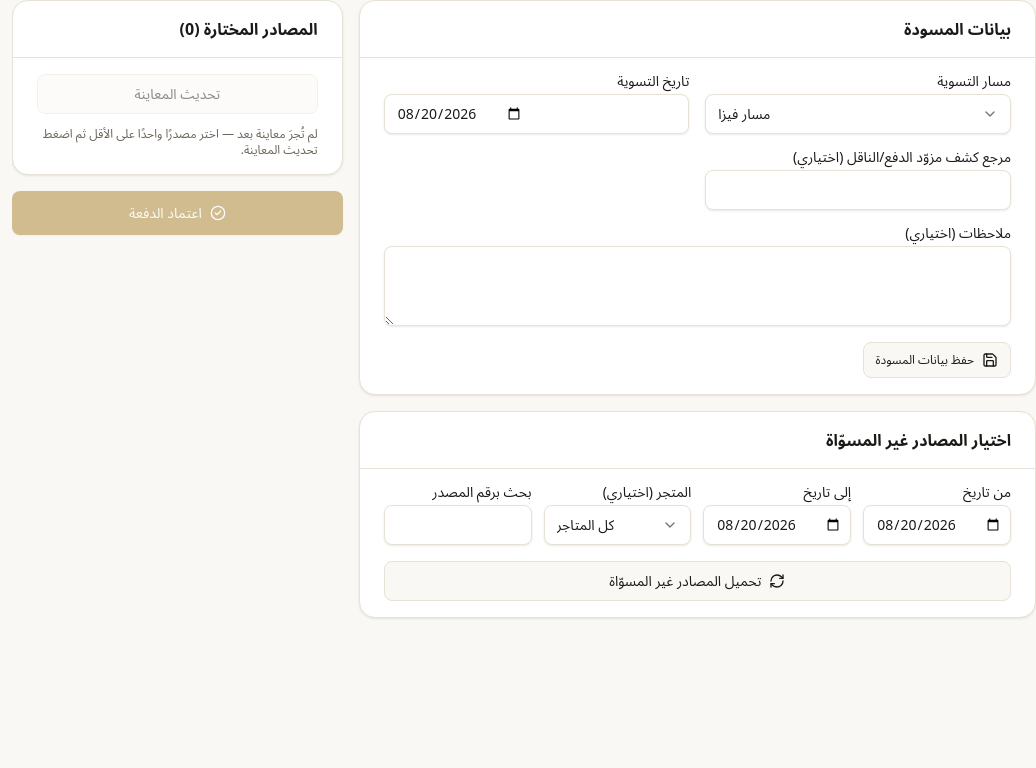
Test: SettlementDraftWorkspace — Preview state machine (Patch 7.1 §16/§33) › success — a resolved preview shows the 'محدّثة' badge, renders the RPC's figures verbatim, and enables Finalize
What coordinates should you click on to do the following:
click the button "تحميل المصادر غير المسوّاة"
I would click on:
 (697, 581)
Its box is [384,561,1011,601].
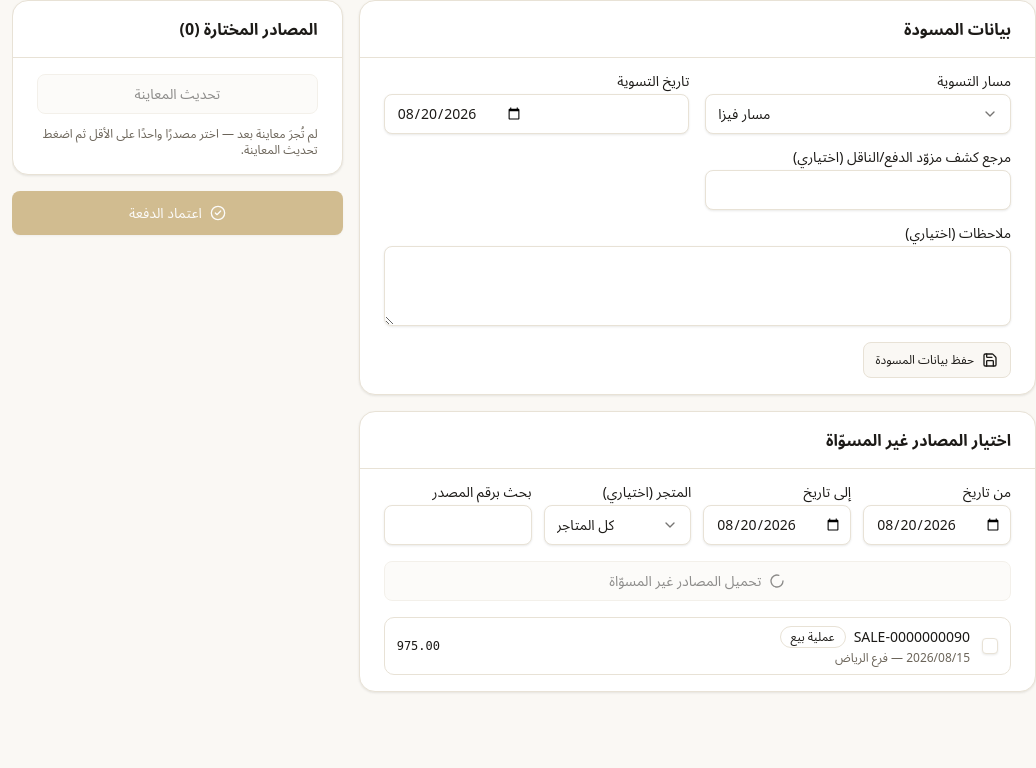
expect the text "SALE-0000000090" is shown: met, box [854,627,970,646]
What coordinates should you click on to do the following:
click the checkbox
I would click on:
 (990, 646)
Its box is [982,638,998,654].
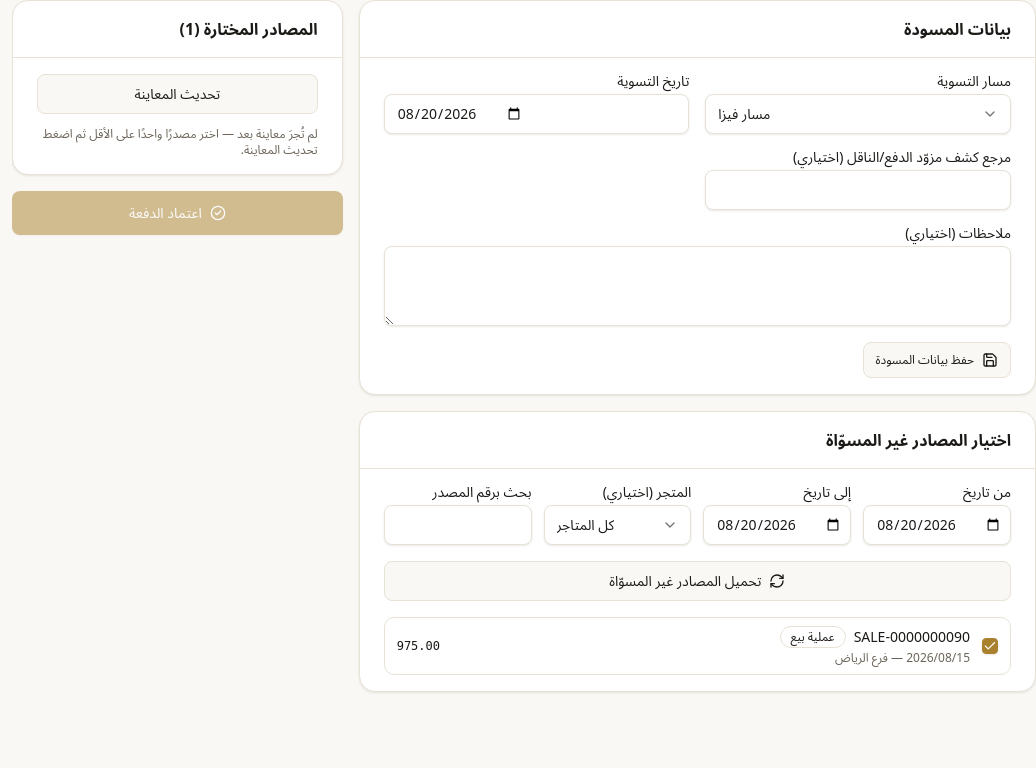
What coordinates should you click on to do the following:
click the button "تحديث المعاينة"
I would click on:
 (177, 94)
Its box is [37,74,318,114].
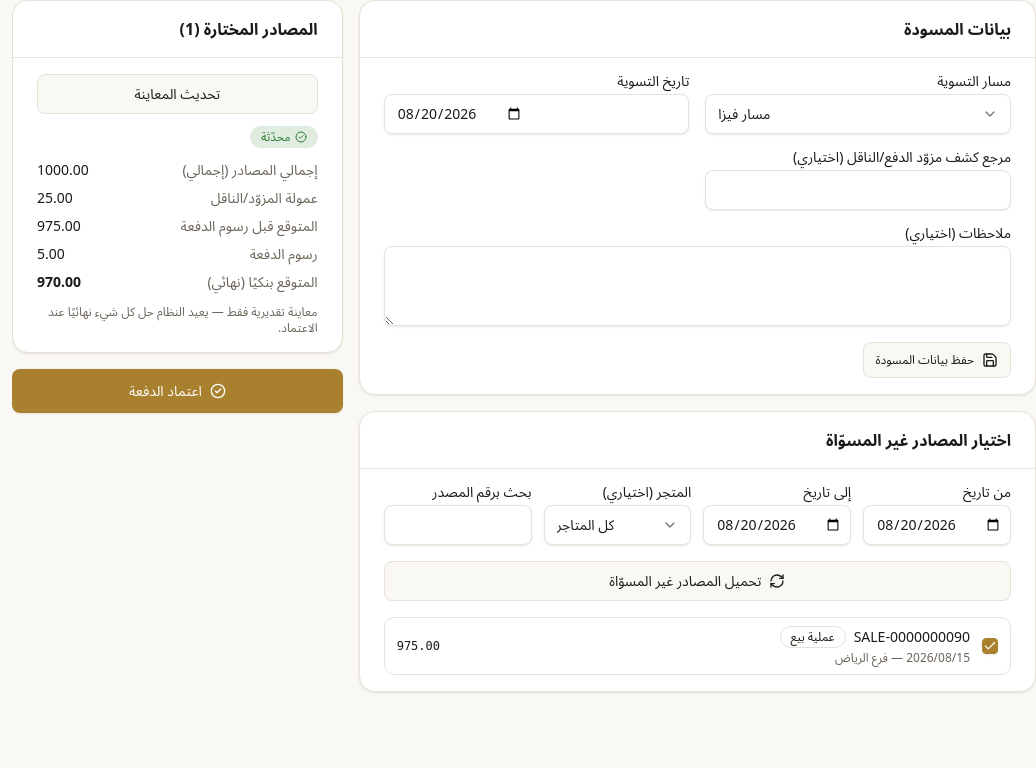
expect the text "محدّثة" is shown: met, box [250,126,318,148]
expect the text "970.00" is shown: met, box [37,272,81,292]
expect the text "5.00" is shown: met, box [37,244,65,264]
